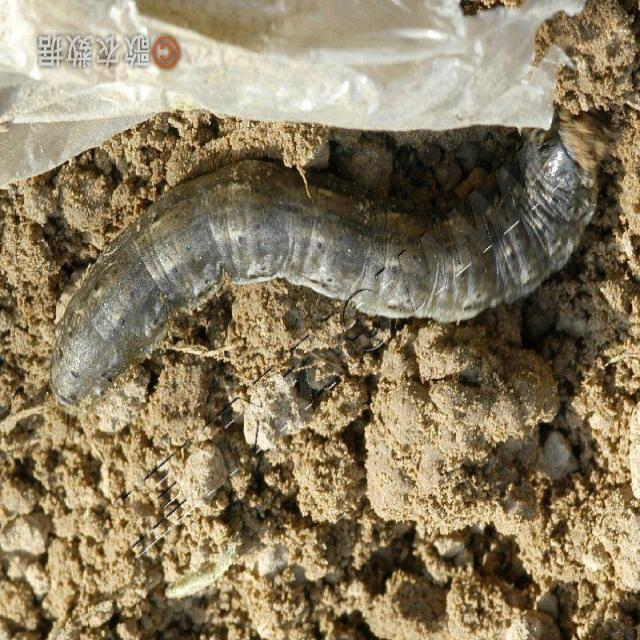black cutworm: (41, 81, 608, 415)
